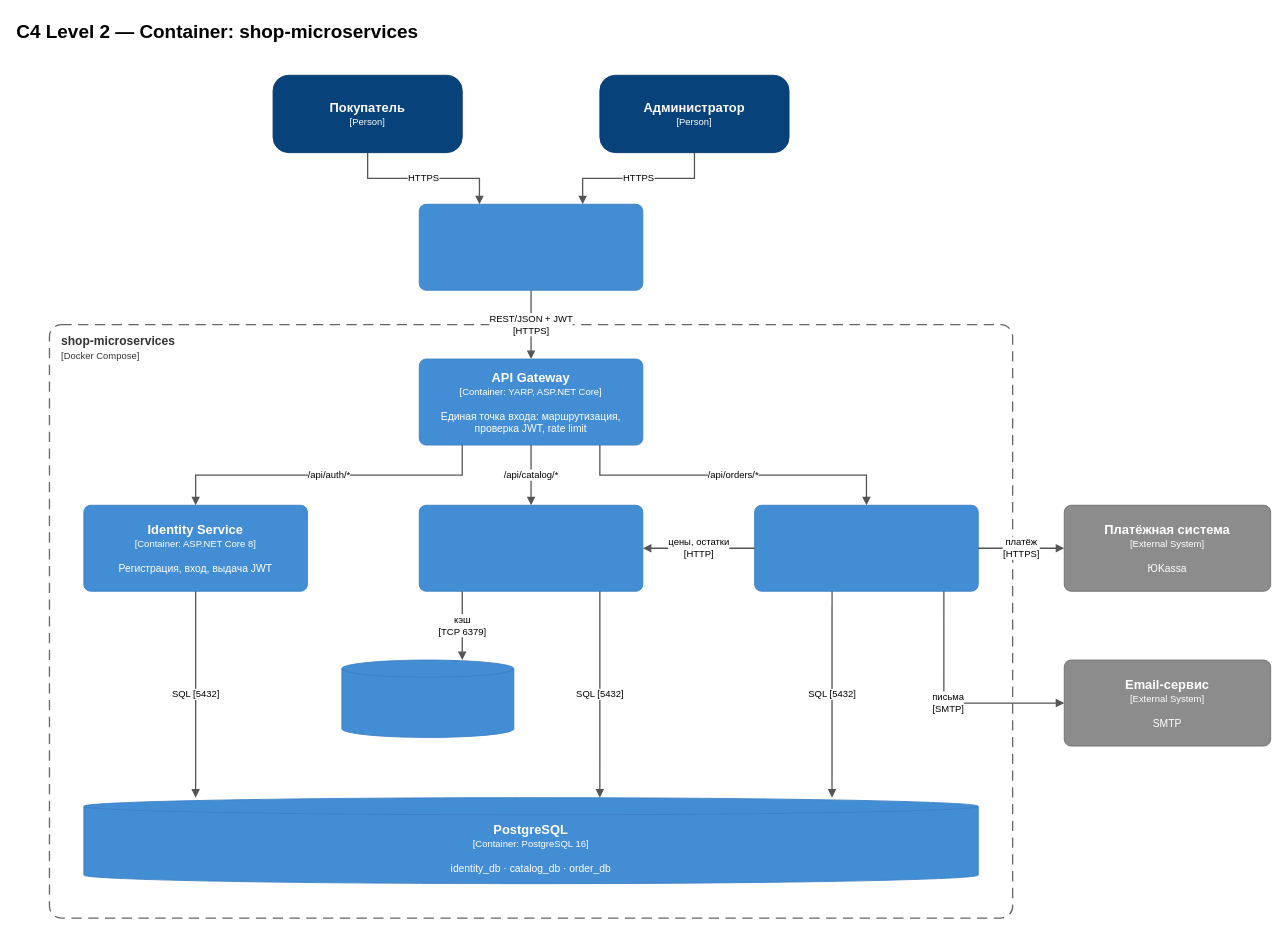
This 1286x933 diagram has some shape labels left out. The shapes that lost their labels are listed below. From the top down, each one's centre as x and y in pixels, then its label:
point (530, 246): Web-клиент [Container: SPA / Swagger UI] Интерфейс магазина в браузере
point (530, 547): Catalog Service [Container: ASP.NET Core 8] Товары, категории, цены, остатки
point (866, 547): Order Service [Container: ASP.NET Core 8] Корзина, заказы, статусы, оплата
point (427, 698): Redis [Container: Redis 7] Кэш каталога
